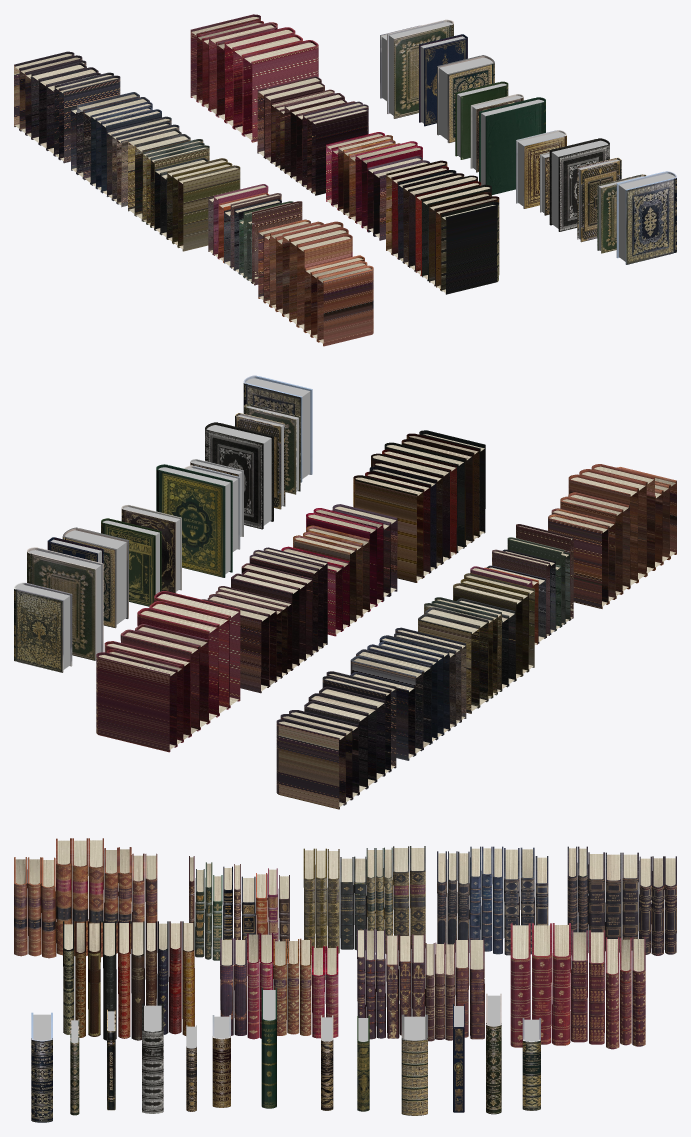
Rendered from Books.fbx.
3 views of the same model, one above another, from view 1: azimuth 30°, elevation 25°; view 2: azimuth 150°, elevation 25°; view 3: azimuth 270°, elevation 25° (orthographic). The views are drawn at different scales.
Parts seen in each view (by area): view 1: Book_pack_1, Book_pack_3, Book_pack_5, Book_pack_7, Book_pack_4, Book_pack_9, Book_pack_8, Book_pack_2, Book_pack_6, Book_11, Book_9, Book_13 (+10 smaller); view 2: Book_pack_5, Book_pack_1, Book_pack_3, Book_pack_9, Book_pack_4, Book_pack_7, Book_pack_8, Book_pack_2, Book_9, Book_pack_6, Book_13, Book_12 (+10 smaller); view 3: Book_pack_5, Book_pack_1, Book_pack_3, Book_pack_4, Book_pack_7, Book_pack_2, Book_pack_8, Book_pack_9, Book_pack_6, Book_8, Book_3, Book_11 (+10 smaller).
Boxes of the visible parts, left/top/right/bottom form: Book_pack_1: left=386, top=160, right=499, bottom=294; Book_pack_3: left=258, top=219, right=373, bottom=346; Book_pack_5: left=190, top=14, right=318, bottom=142; Book_pack_7: left=128, top=129, right=240, bottom=251; Book_pack_4: left=257, top=76, right=368, bottom=195; Book_pack_9: left=14, top=51, right=120, bottom=163; Book_pack_8: left=70, top=92, right=179, bottom=207; Book_pack_2: left=326, top=132, right=429, bottom=240; Book_pack_6: left=208, top=184, right=302, bottom=285; Book_11: left=616, top=171, right=676, bottom=264; Book_9: left=479, top=97, right=545, bottom=194; Book_13: left=387, top=19, right=453, bottom=118; Book_pack_5: left=96, top=591, right=240, bottom=752; Book_pack_1: left=353, top=430, right=485, bottom=582; Book_pack_3: left=548, top=464, right=676, bottom=608; Book_pack_9: left=276, top=671, right=396, bottom=809; Book_pack_4: left=201, top=547, right=327, bottom=693; Book_pack_7: left=418, top=573, right=534, bottom=713; Book_pack_8: left=350, top=627, right=466, bottom=760; Book_pack_2: left=281, top=504, right=397, bottom=636; Book_9: left=156, top=464, right=232, bottom=577; Book_pack_6: left=470, top=524, right=573, bottom=644; Book_13: left=27, top=547, right=103, bottom=660; Book_12: left=14, top=582, right=72, bottom=672; Book_pack_5: left=510, top=923, right=645, bottom=1049; Book_pack_1: left=63, top=921, right=194, bottom=1040; Book_pack_3: left=14, top=838, right=157, bottom=958; Book_pack_4: left=357, top=929, right=484, bottom=1041; Book_pack_7: left=303, top=846, right=425, bottom=954; Book_pack_2: left=220, top=933, right=338, bottom=1039; Book_pack_8: left=437, top=846, right=548, bottom=955; Book_pack_9: left=567, top=846, right=676, bottom=955; Book_pack_6: left=189, top=856, right=289, bottom=960; Book_8: left=401, top=1014, right=427, bottom=1115; Book_3: left=142, top=1003, right=163, bottom=1113; Book_11: left=31, top=1012, right=52, bottom=1122.
Size of the model in its own units: 139 by 29.36 by 195.
